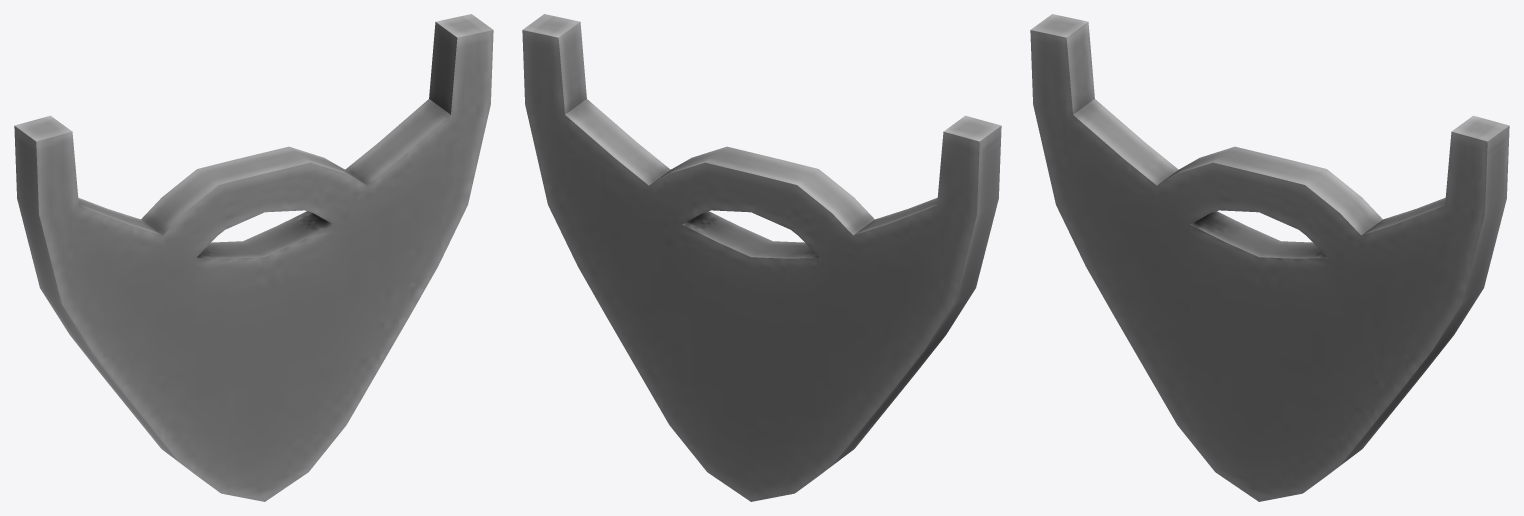
The model's file is Wizard Beard.fbx.
3 renders of one model, left to right at view 1: azimuth 30°, elevation 25°; view 2: azimuth 150°, elevation 25°; view 3: azimuth 330°, elevation 25°, orthographic.
Parts seen in each view (by area): view 1: 3d_wizard_Beard; view 2: 3d_wizard_Beard; view 3: 3d_wizard_Beard.
Part boxes in pixels (<box>): 3d_wizard_Beard: <box>14,14,493,501</box>; 3d_wizard_Beard: <box>522,14,1001,501</box>; 3d_wizard_Beard: <box>1030,14,1509,501</box>.
Size of the model in its own units: 29.22 by 25.48 by 2.42.
